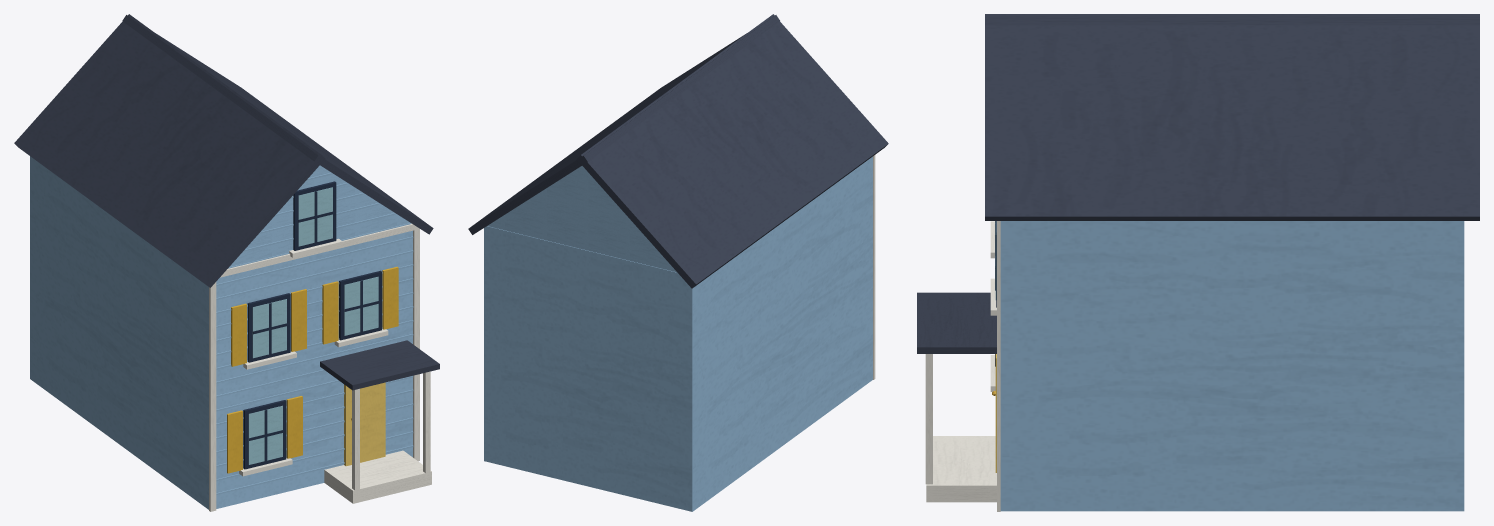
The model's file is townhouse_blue.glb.
3 renders of one model, left to right at view 1: azimuth 30°, elevation 25°; view 2: azimuth 150°, elevation 25°; view 3: azimuth 270°, elevation 25°, orthographic. The views are drawn at different scales.
Parts seen in each view (by area): view 1: townhouse; view 2: townhouse; view 3: townhouse.
Boxes of the visible parts, x1,y1,x2,y2 form: townhouse: [14, 14, 439, 511]; townhouse: [468, 14, 888, 511]; townhouse: [917, 14, 1479, 511].
Size of the model in its own units: 5.47 by 7.69 by 9.1.
Materials: 12 (12 with a texture image).
